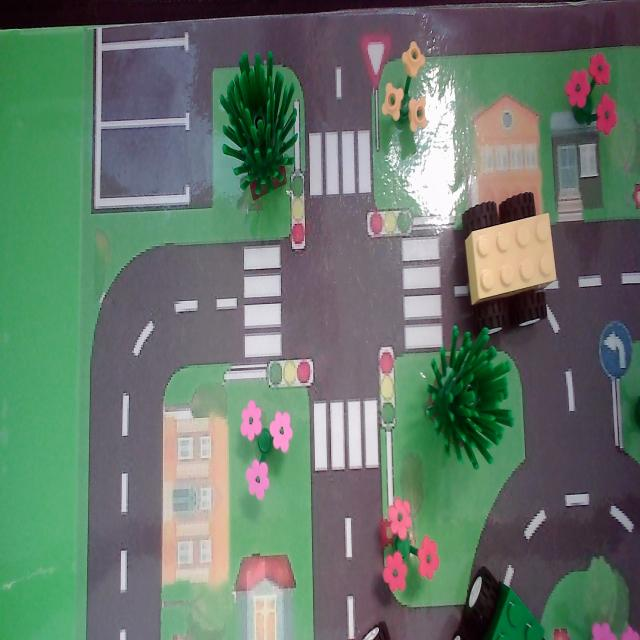Car: (461, 188, 558, 352), (446, 559, 550, 640)
Flower: (236, 393, 301, 509), (368, 504, 442, 603), (561, 43, 627, 153), (378, 30, 436, 146)
Tree: (421, 322, 515, 472), (216, 44, 301, 206)
